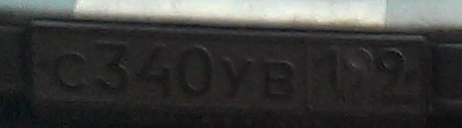character: (173, 45, 218, 104), (135, 40, 175, 102), (90, 35, 130, 96), (51, 46, 90, 98), (378, 46, 410, 103), (263, 55, 298, 107), (221, 52, 256, 102), (347, 45, 376, 104), (316, 43, 346, 98)
